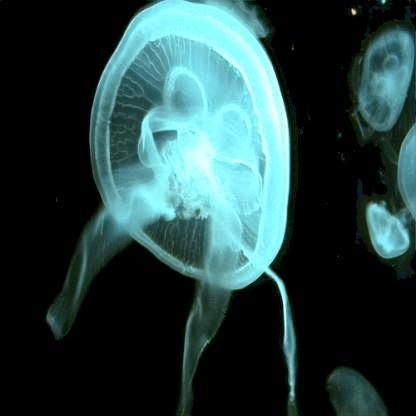Speckle: (48, 3, 300, 412), (351, 28, 416, 158), (379, 119, 416, 218), (364, 193, 413, 257), (327, 364, 387, 416)
